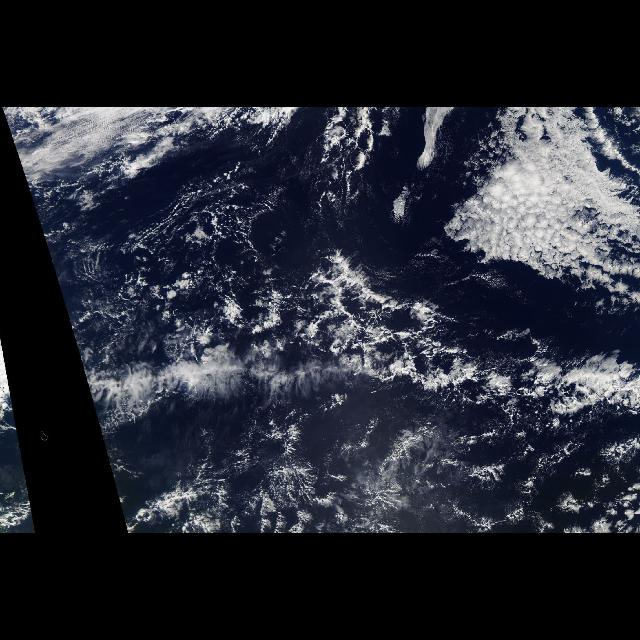Fish: (63, 260, 635, 530)
Flower: (410, 115, 640, 285)
